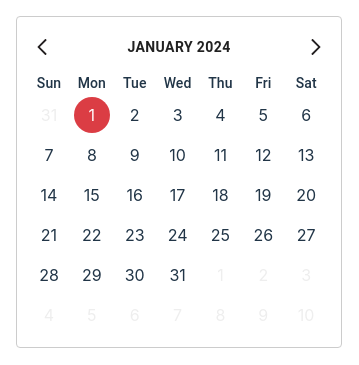
Calendar Component › changes view when clicking on month-year header
What coordinates should you click on to do the following:
click the button "January 2024"
I would click on:
 (179, 47)
Its box is [87, 29, 271, 65].
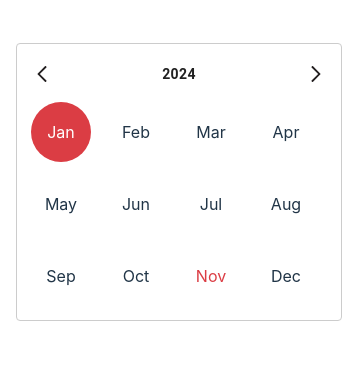
Expected: the element with test id "year-month" is shown, [29, 100, 329, 308]
